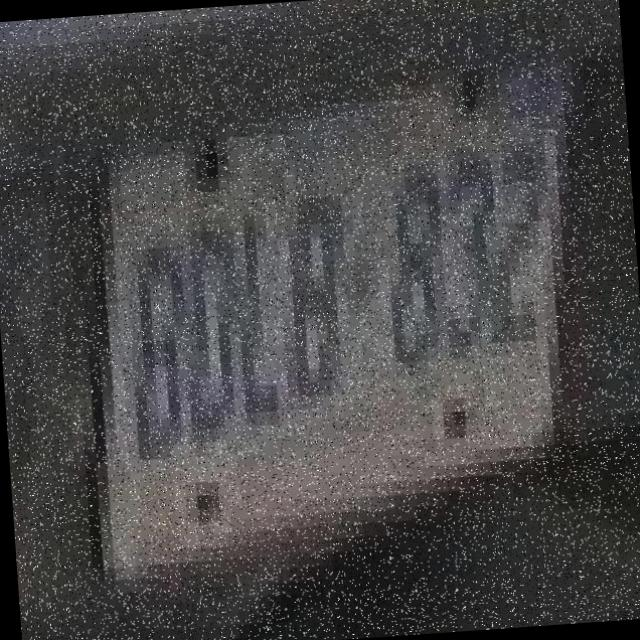LicensePlate: (70, 62, 628, 612)
